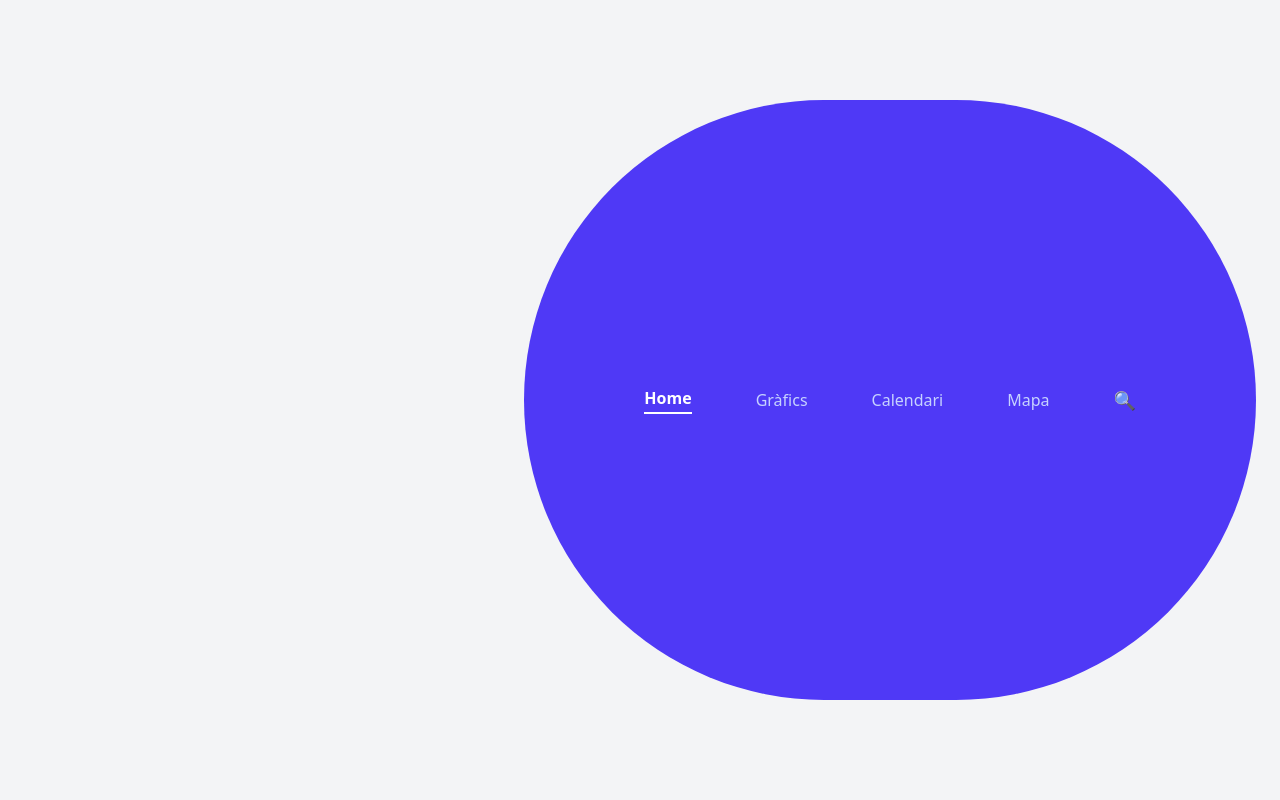
Integració: Sistema de Cerca › hauria de reflectir el text cercat al context global
The image size is (1280, 800).
Click the button "🔍": point(1125, 400) x1=1114 y1=386 x2=1136 y2=414
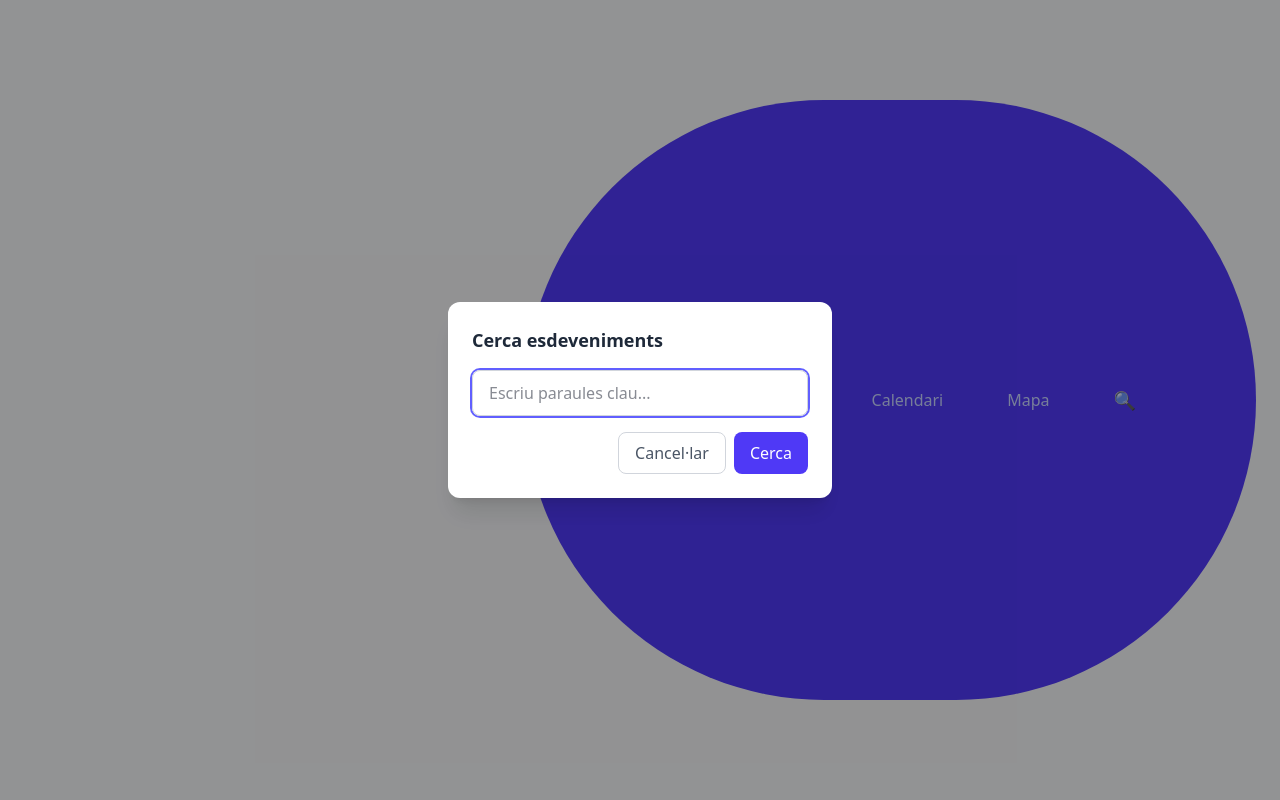
In the field with placeholder "Escriu paraules clau...": point(640, 393) x1=472 y1=370 x2=808 y2=416, type "Concert"
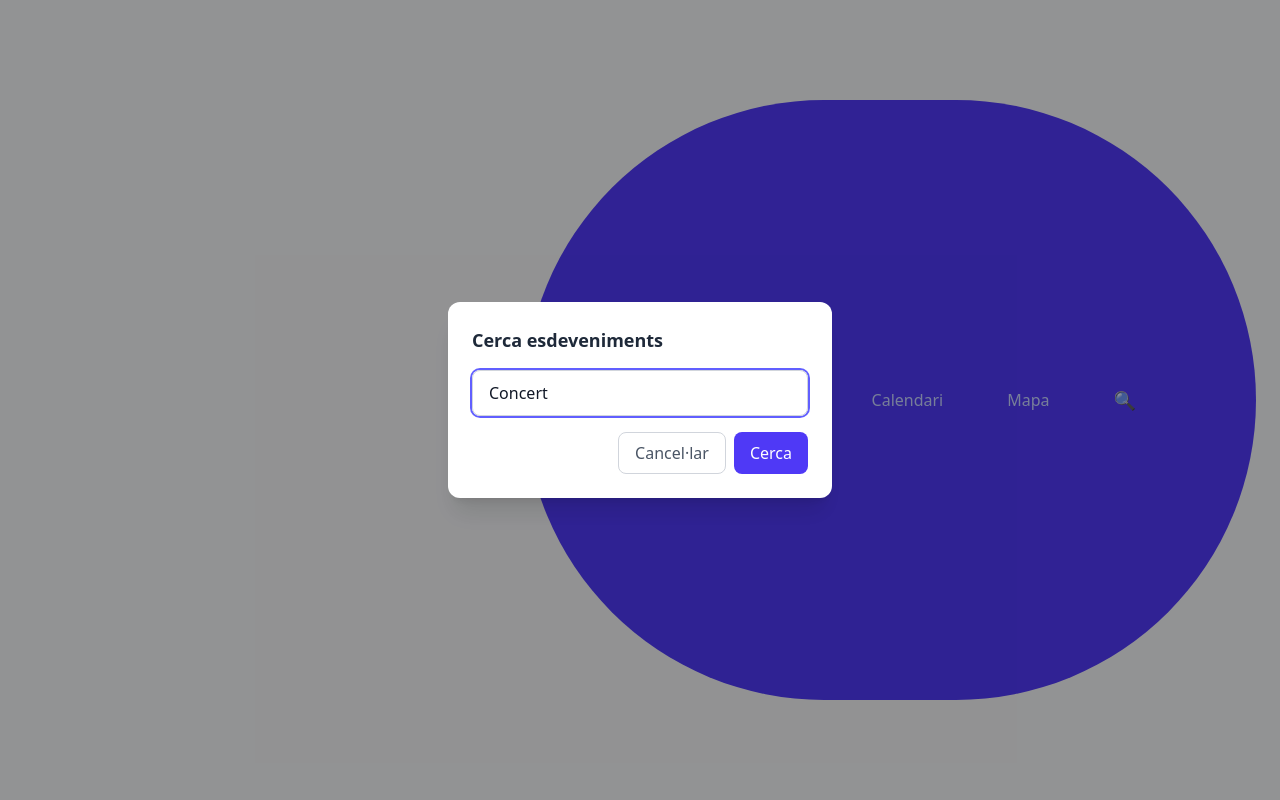
Click the button "Cerca": point(771, 453) x1=734 y1=432 x2=808 y2=474
(page scrolled)
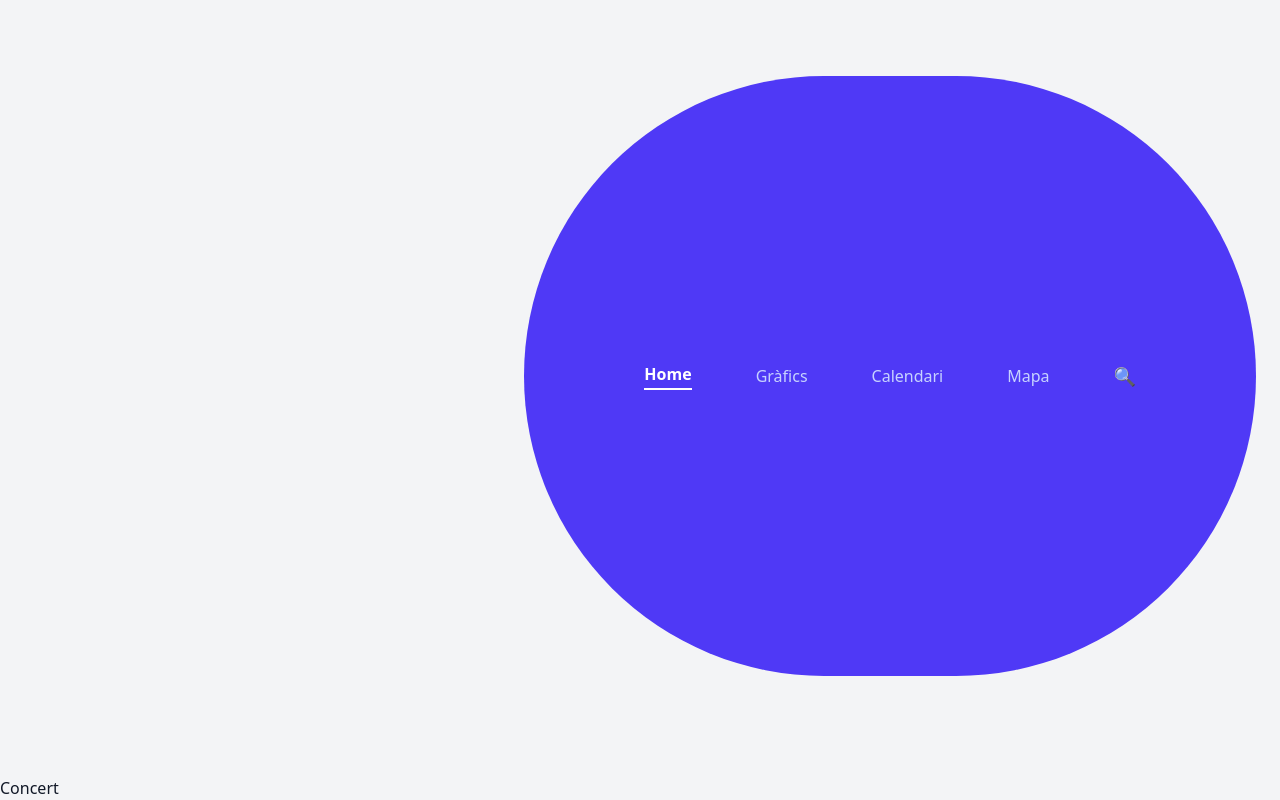
Expected: the text with test id "final-result" reads "Concert", x1=0 y1=777 x2=59 y2=799
